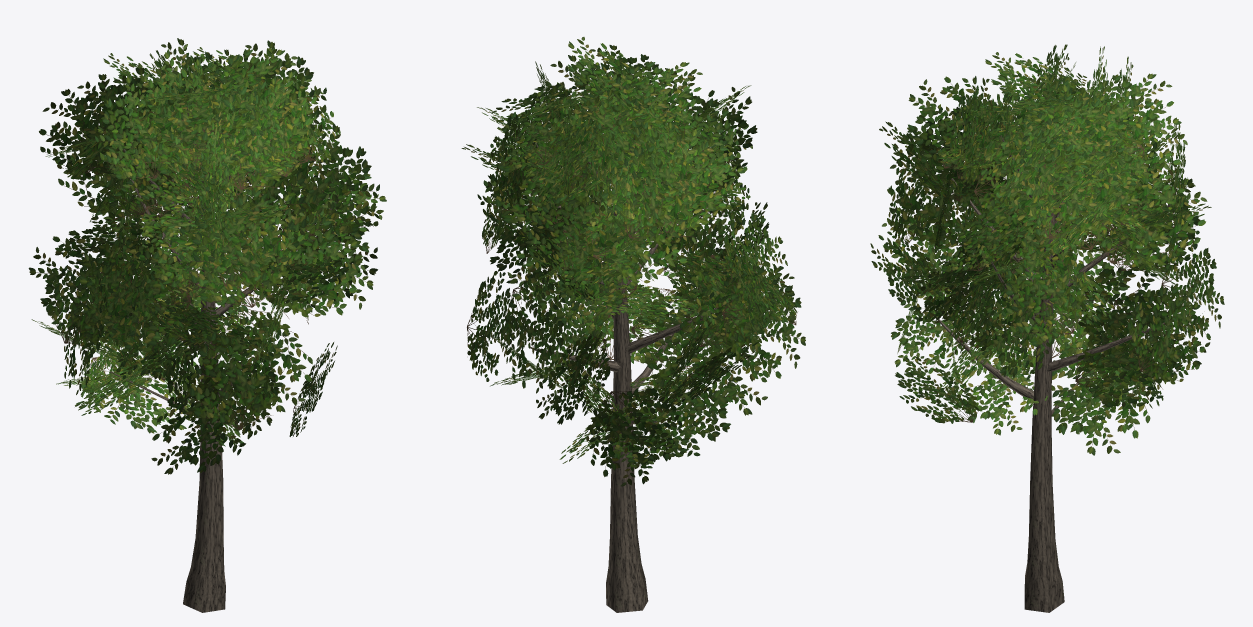
Rendered from Arbre-lod1.glb.
The picture shows the model from 3 angles, left to right: view 1: azimuth 30°, elevation 25°; view 2: azimuth 150°, elevation 25°; view 3: azimuth 270°, elevation 25°; orthographic projection.
Visible parts, largest first — view 1: Arbre-lod1; view 2: Arbre-lod1; view 3: Arbre-lod1.
Boxes of the visible parts, box(x1,y1,x2,y2) form: Arbre-lod1: box(28, 38, 386, 612); Arbre-lod1: box(461, 37, 805, 612); Arbre-lod1: box(870, 44, 1224, 612).
Bounding box in the file's own units: 8.17 × 12.63 × 8.07.
2 materials, 2 textured.
